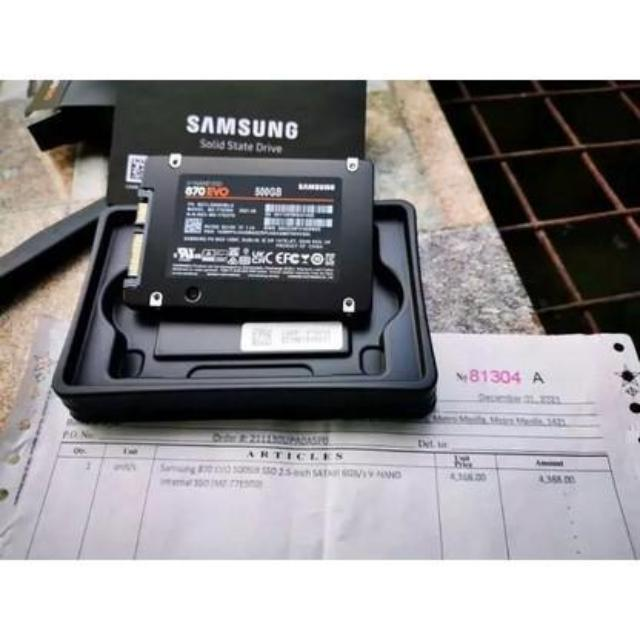DISK: (121, 148, 376, 328)
